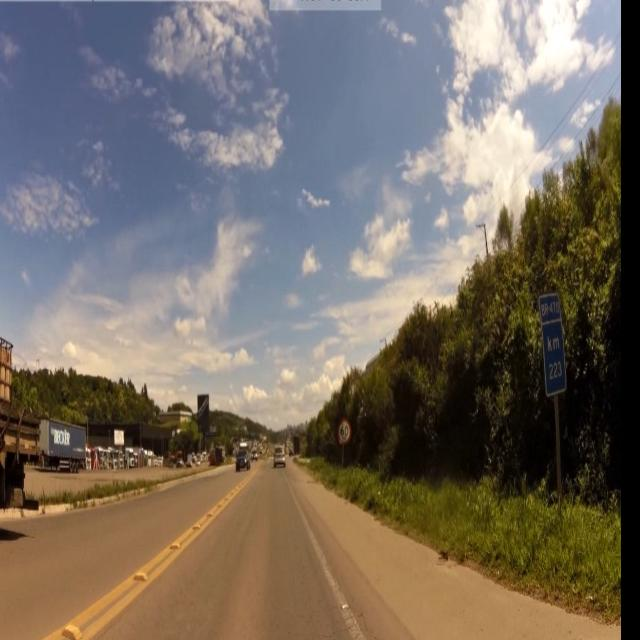RQ: (542, 294, 572, 399)
